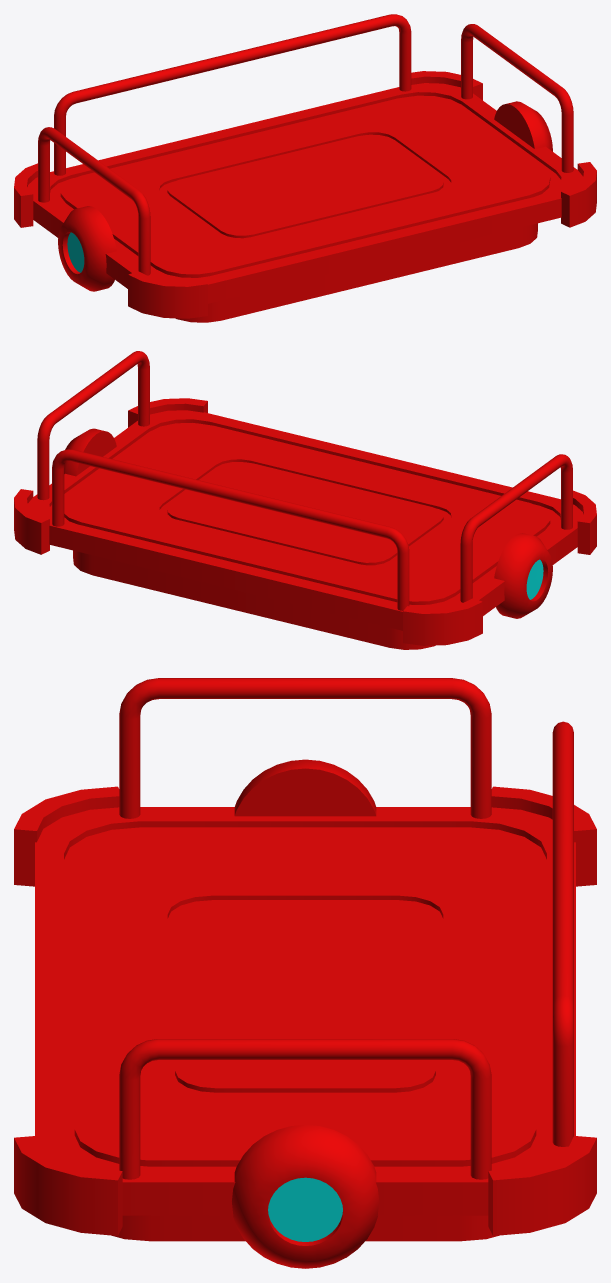
Rendered from OBJ_Platform.fbx.
The picture shows the model from 3 angles, top to bottom: view 1: azimuth 30°, elevation 25°; view 2: azimuth 150°, elevation 25°; view 3: azimuth 270°, elevation 25°; orthographic projection. The views are drawn at different scales.
Visible parts, largest first — view 1: OBJ_Platform; view 2: OBJ_Platform; view 3: OBJ_Platform.
Part boxes in pixels (box(x1,y1,x2,y2)): OBJ_Platform: box(14, 14, 596, 322); OBJ_Platform: box(14, 351, 596, 649); OBJ_Platform: box(14, 678, 596, 1268).
Bounding box in the file's own units: 23.18 × 6.18 × 14.44.
